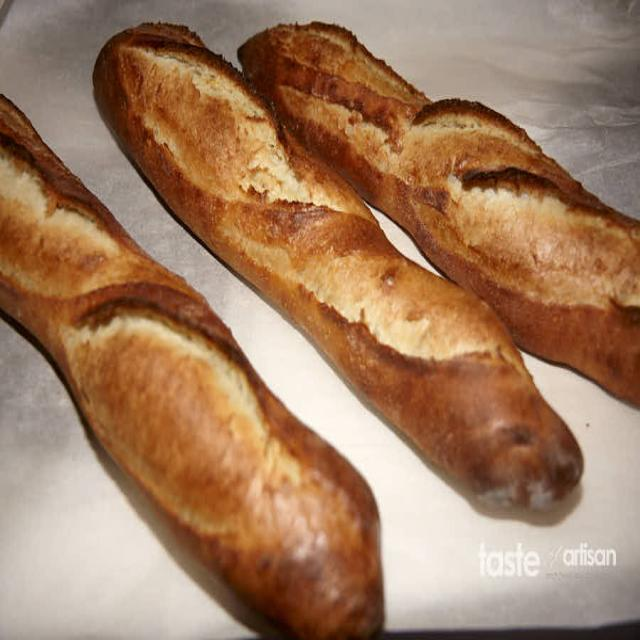Baguette: (94, 23, 582, 509), (0, 96, 382, 639), (240, 22, 639, 406)
